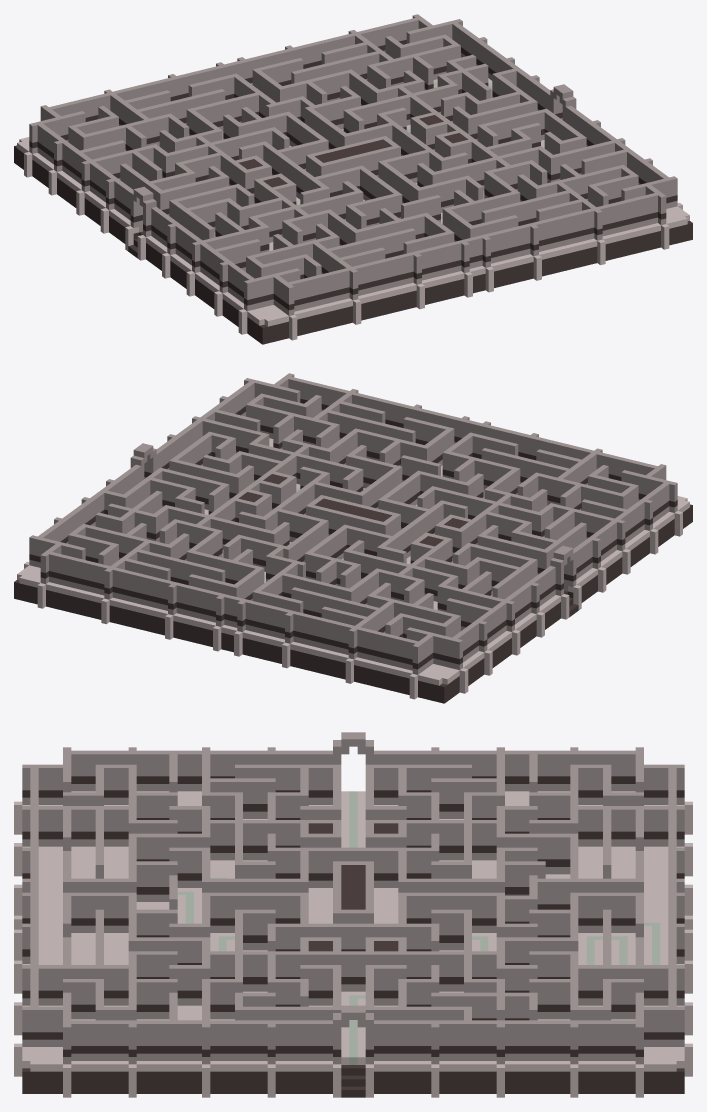
File: updatedMaze.glb
The picture shows the model from 3 angles, top to bottom: view 1: azimuth 30°, elevation 25°; view 2: azimuth 150°, elevation 25°; view 3: azimuth 270°, elevation 25°; orthographic projection. The views are drawn at different scales.
Parts seen in each view (by area): view 1: Object_2; view 2: Object_2; view 3: Object_2.
Boxes of the visible parts, x1,y1,x2,y2 form: Object_2: (14,14,692,344); Object_2: (14,373,692,703); Object_2: (14,732,692,1097).
Size of the model in its own units: 16.6 by 2.2 by 16.6.
Materials: 1 (1 with a texture image).
